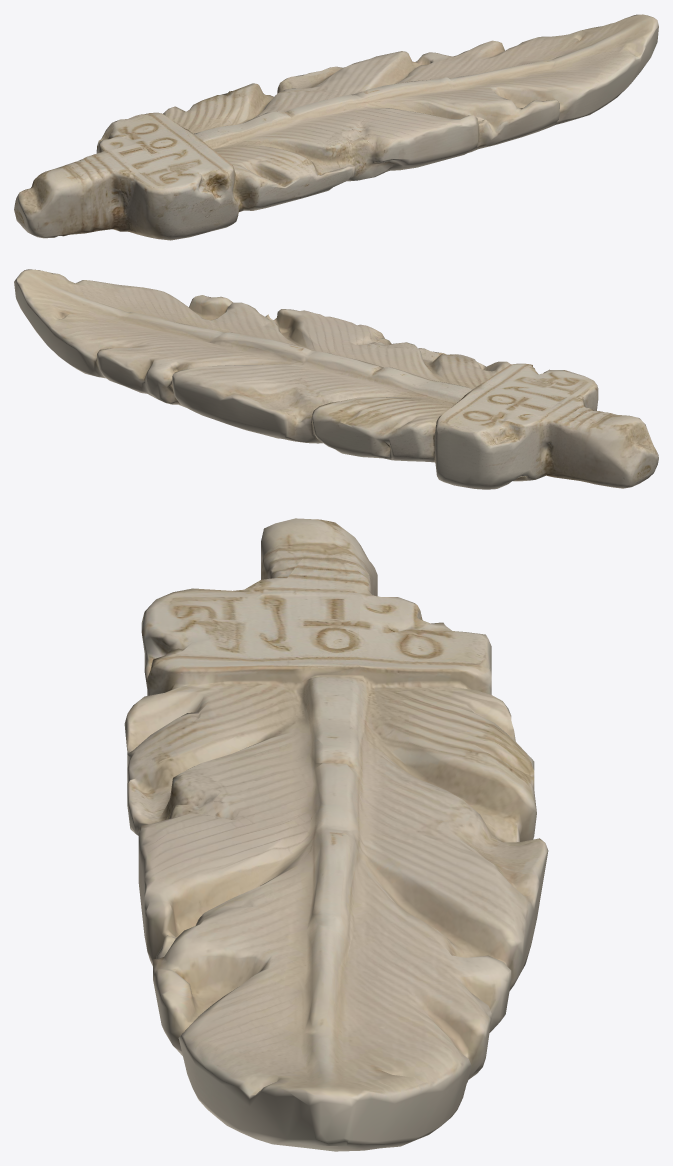
File: 019e0e75-a346-7083-a575-7c7dd6b46dca.glb
The picture shows the model from 3 angles, top to bottom: view 1: azimuth 30°, elevation 25°; view 2: azimuth 150°, elevation 25°; view 3: azimuth 270°, elevation 25°; orthographic projection. The views are drawn at different scales.
Parts seen in each view (by area): view 1: tripo_node_6d00a0b0-579e-44b9-bad1-263b31fd2aca; view 2: tripo_node_6d00a0b0-579e-44b9-bad1-263b31fd2aca; view 3: tripo_node_6d00a0b0-579e-44b9-bad1-263b31fd2aca.
Part boxes in pixels (x1,y1,x2,y2): tripo_node_6d00a0b0-579e-44b9-bad1-263b31fd2aca: (14, 14, 658, 240); tripo_node_6d00a0b0-579e-44b9-bad1-263b31fd2aca: (14, 269, 658, 489); tripo_node_6d00a0b0-579e-44b9-bad1-263b31fd2aca: (124, 518, 548, 1151).
Bounding box in the file's own units: 0.998 × 0.1113 × 0.291.
Materials: 1 (1 with a texture image).
